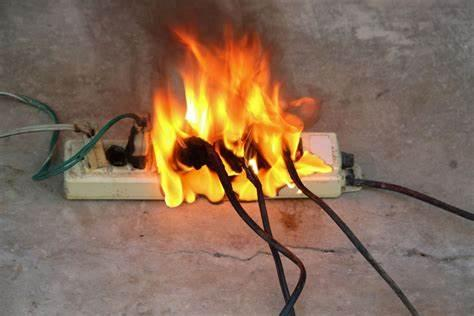Fire: (146, 20, 335, 212)
